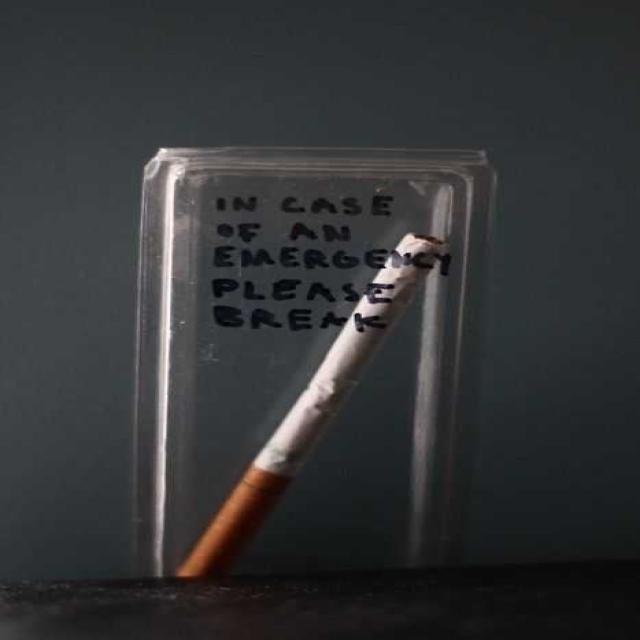Smooking: (154, 200, 466, 599)
